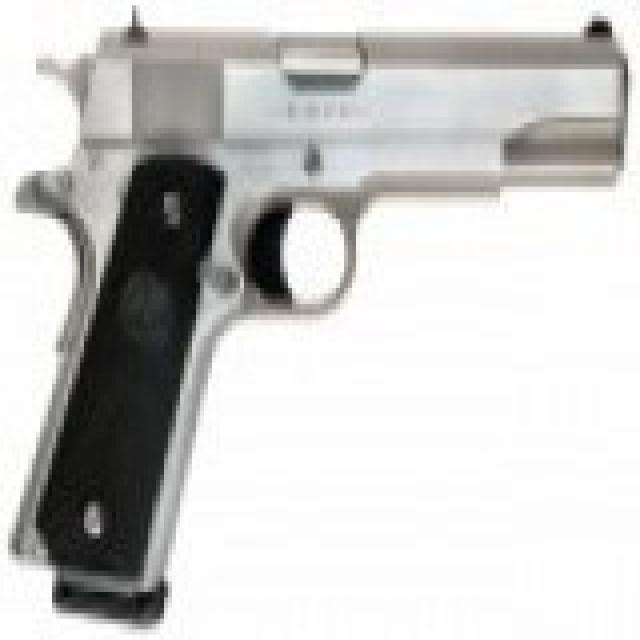Gun: (16, 4, 640, 596)
